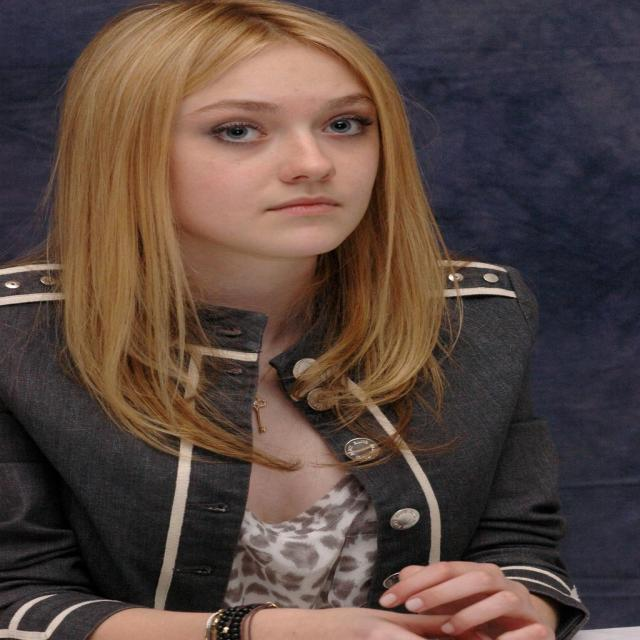nomask: (167, 40, 382, 256)
